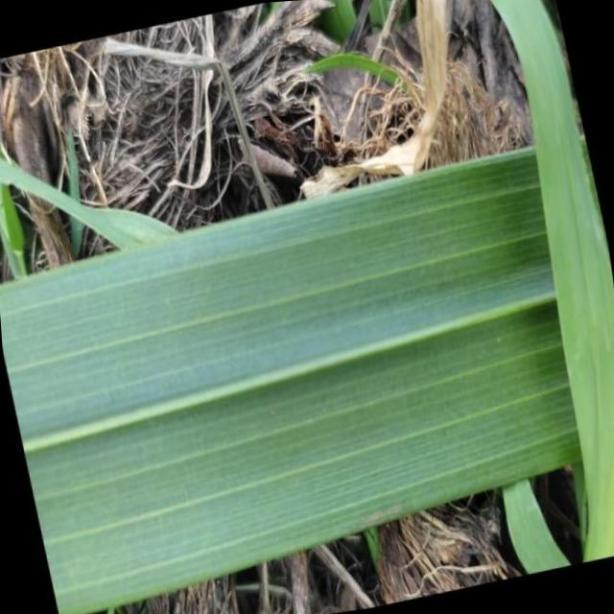Healthy: (0, 134, 614, 614)
